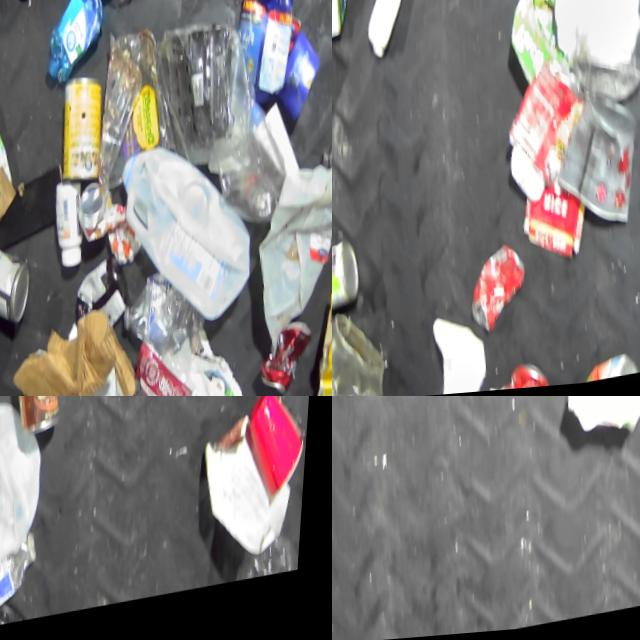can: (551, 101, 640, 238), (469, 244, 539, 339), (79, 183, 141, 272), (0, 233, 43, 338), (262, 322, 321, 396), (332, 230, 372, 320), (575, 350, 640, 390), (487, 362, 558, 396)
milk_jug: (114, 139, 266, 336), (254, 165, 332, 336), (0, 399, 53, 556)
non_white_jug: (230, 0, 311, 120)
plastic_bottle: (538, 0, 640, 115), (0, 536, 50, 631)
